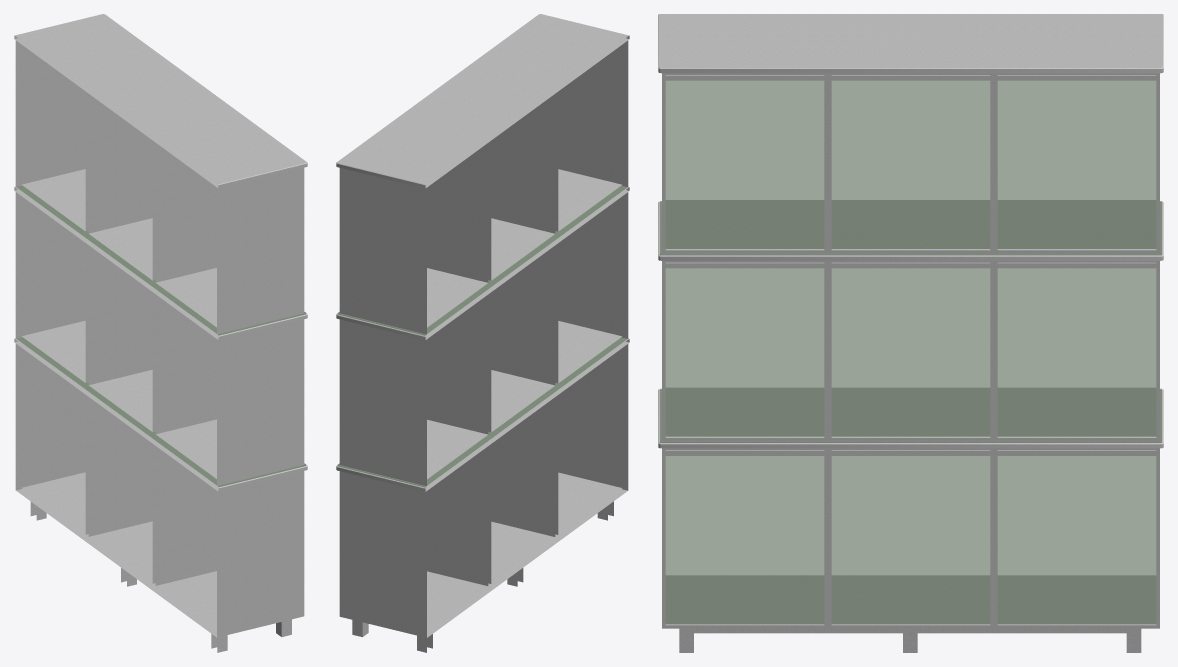
The model's file is Dressoir_Glass3.fbx.
3 views of the same model, side by side, from view 1: azimuth 30°, elevation 25°; view 2: azimuth 150°, elevation 25°; view 3: azimuth 270°, elevation 25° (orthographic). The views are drawn at different scales.
Visible parts, largest first — view 1: Dressoir_Glass3; view 2: Dressoir_Glass3; view 3: Dressoir_Glass3.
Boxes of the visible parts, x1,y1,x2,y2 form: Dressoir_Glass3: [14, 14, 307, 652]; Dressoir_Glass3: [336, 14, 629, 652]; Dressoir_Glass3: [658, 14, 1163, 652].
Size of the model in its own units: 50.38 by 254 by 198.
